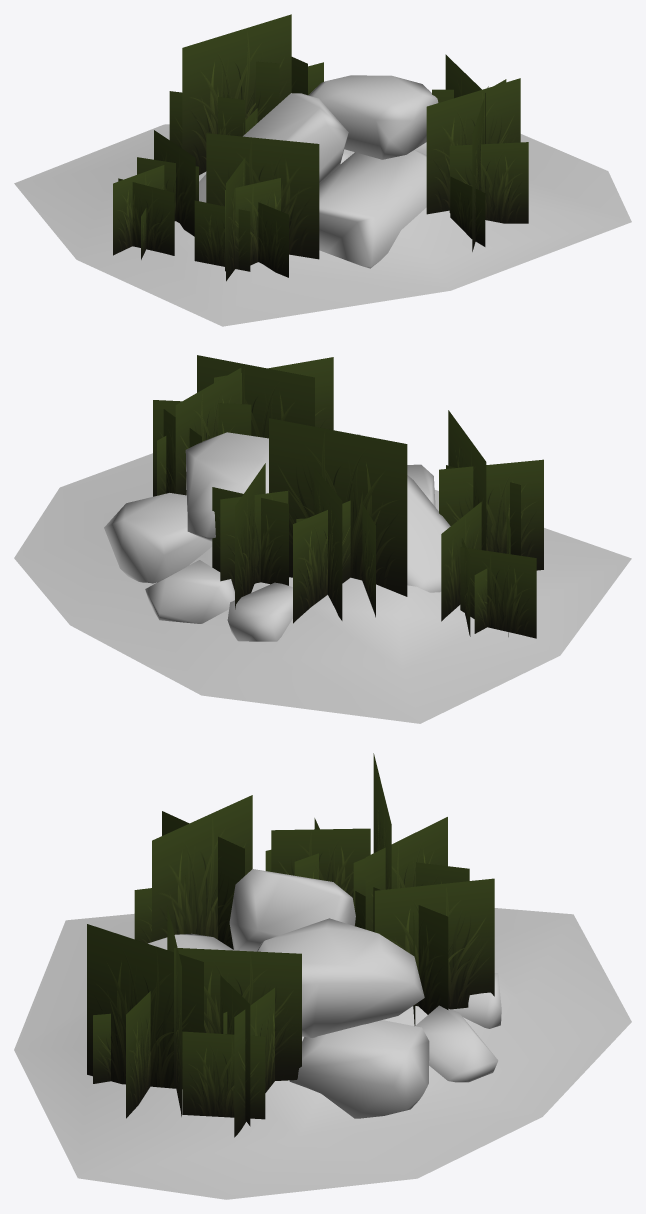
The model's file is Soil_Bricks_Grass_02.fbx.
3 views of the same model, one above another, from view 1: azimuth 30°, elevation 25°; view 2: azimuth 150°, elevation 25°; view 3: azimuth 270°, elevation 25° (orthographic). The views are drawn at different scales.
Parts seen in each view (by area): view 1: Soil_Bricks_Grass_02_LOD0; view 2: Soil_Bricks_Grass_02_LOD0; view 3: Soil_Bricks_Grass_02_LOD0.
Boxes of the visible parts, <box> form: Soil_Bricks_Grass_02_LOD0: <box>14,14,631,326</box>; Soil_Bricks_Grass_02_LOD0: <box>14,355,631,723</box>; Soil_Bricks_Grass_02_LOD0: <box>14,753,631,1199</box>.
Size of what is drawn, in the model's own units: 5.44 by 4.66 by 1.86.
